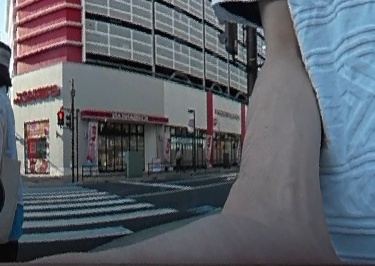person: (173, 146, 183, 171)
